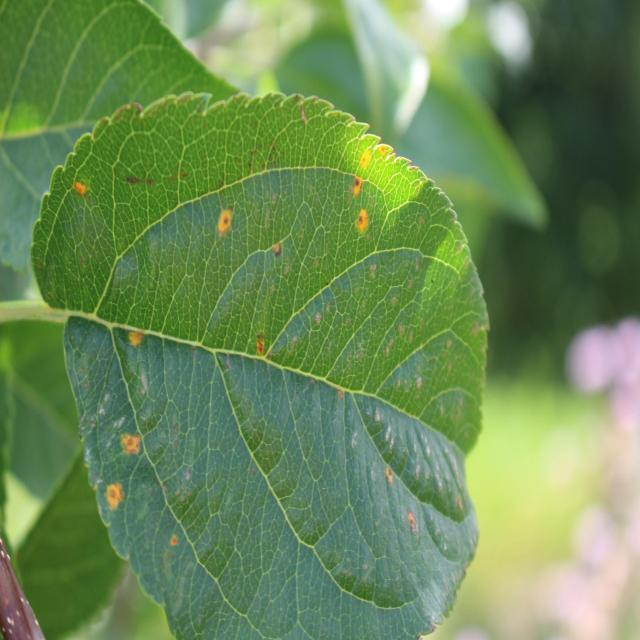Rust: (114, 430, 144, 460), (217, 200, 235, 242), (352, 204, 372, 238), (120, 324, 147, 349), (102, 480, 123, 508), (167, 522, 184, 556), (69, 175, 89, 203), (252, 333, 269, 364), (380, 463, 398, 489), (356, 150, 374, 172), (402, 512, 418, 536), (269, 238, 285, 260), (352, 171, 364, 199), (378, 135, 392, 159), (336, 382, 347, 400)
